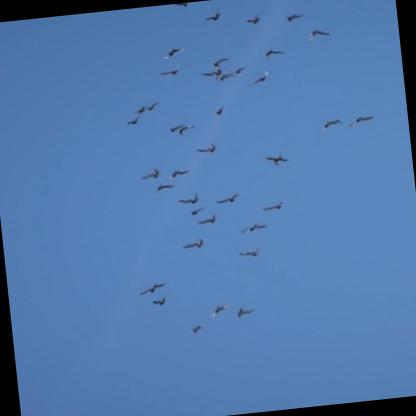bird: (343, 111, 376, 130), (213, 190, 249, 204), (238, 219, 269, 235), (263, 149, 290, 166), (139, 280, 168, 294), (175, 192, 202, 207), (314, 117, 341, 132), (138, 165, 163, 181), (158, 45, 186, 59), (245, 69, 271, 84), (196, 209, 220, 225), (157, 61, 182, 76), (181, 233, 206, 248), (308, 26, 333, 41), (258, 199, 285, 212), (167, 166, 192, 180), (237, 244, 262, 258), (202, 6, 223, 22), (194, 141, 219, 154), (210, 302, 233, 316), (207, 102, 228, 117), (152, 181, 177, 193), (199, 66, 223, 78), (262, 47, 285, 59), (165, 119, 184, 133), (233, 305, 255, 317), (284, 10, 306, 22), (190, 319, 208, 333), (185, 205, 206, 217), (210, 55, 231, 67), (144, 98, 163, 111), (176, 122, 195, 135), (150, 294, 169, 306), (229, 63, 248, 75), (215, 71, 236, 81), (245, 11, 262, 23), (130, 103, 148, 114), (125, 115, 144, 125)
